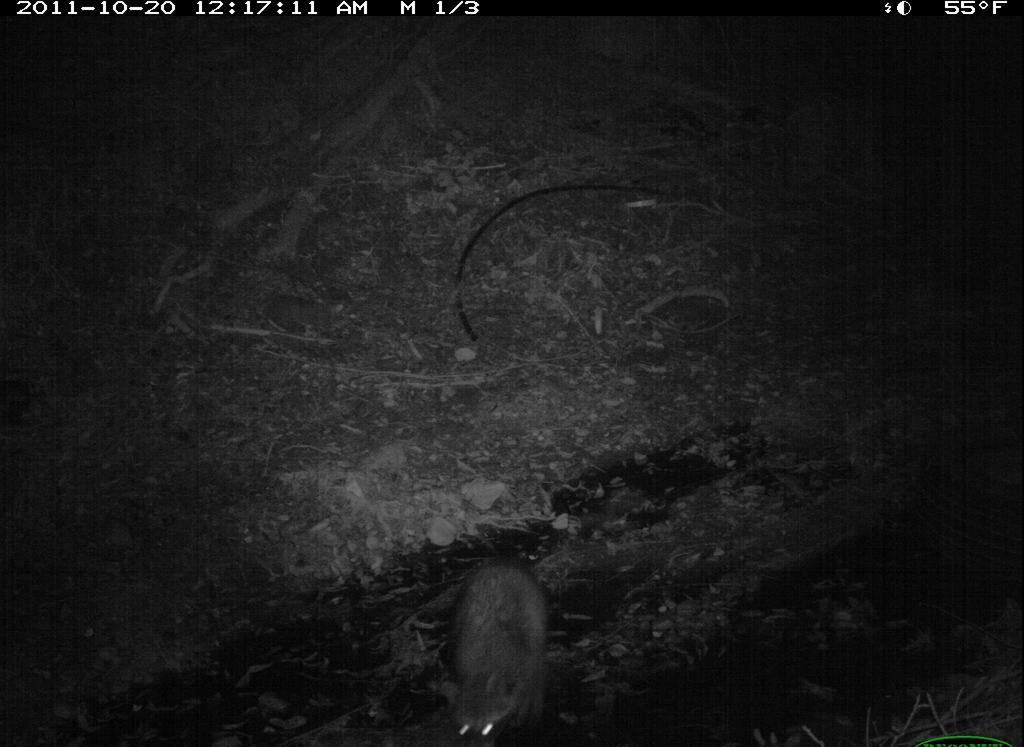raccoon: (429, 551, 562, 747)
